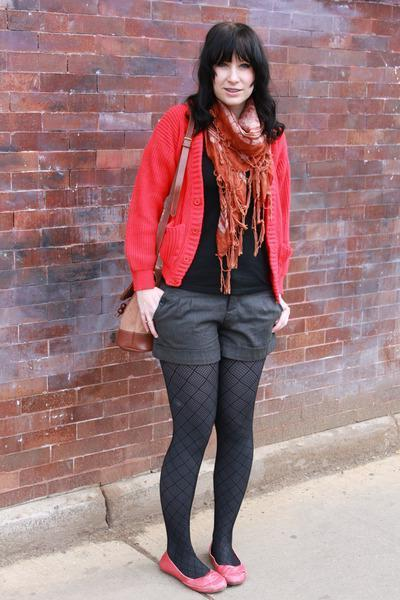Shorts: (148, 289, 280, 370)
long sleeve shirt: (119, 101, 302, 294)
short sleeve shirt: (171, 144, 269, 293)
